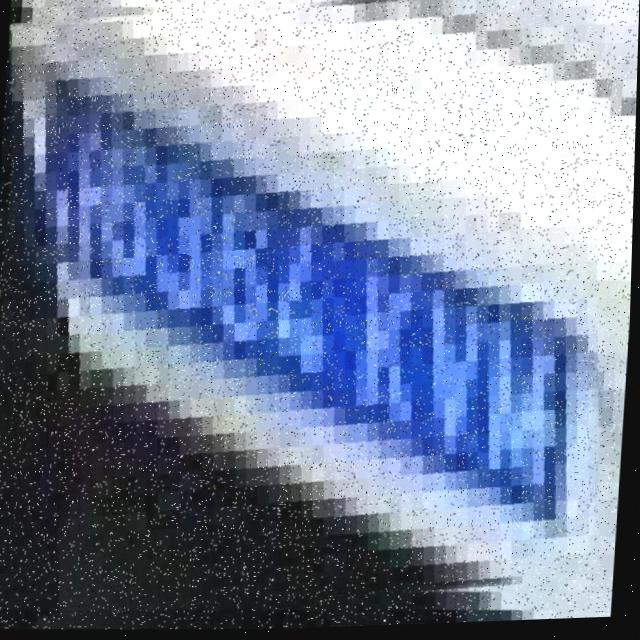LicensePlate: (0, 0, 627, 631)
